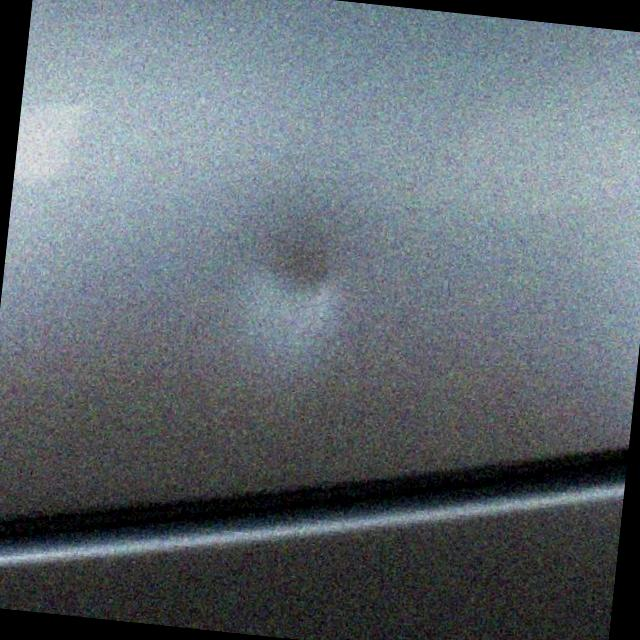dent: (241, 196, 356, 330)
